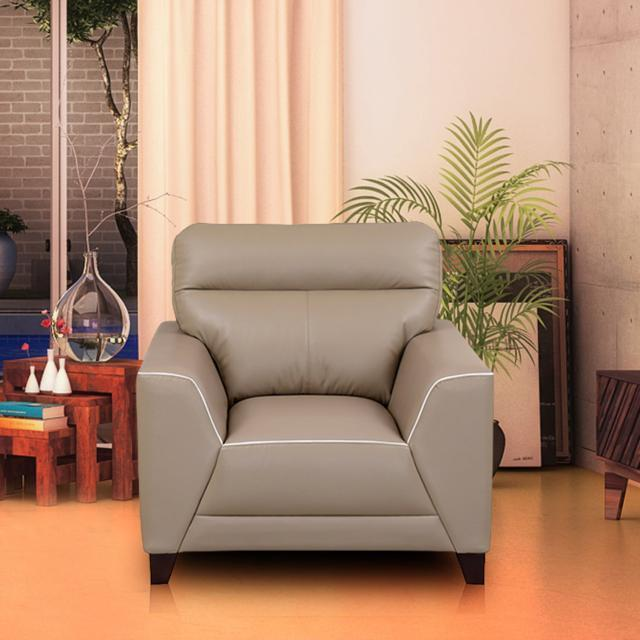sofa: (134, 219, 494, 586)
